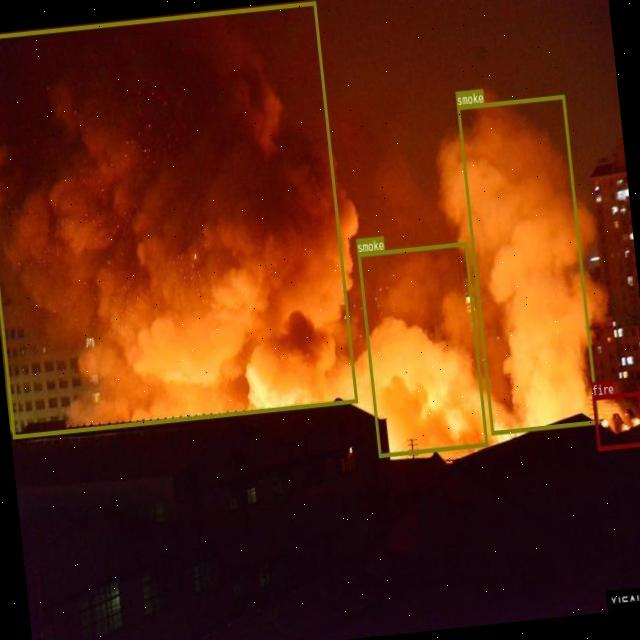fire: (592, 390, 640, 450)
smoke: (0, 1, 356, 438), (456, 94, 598, 434), (357, 240, 487, 457)
